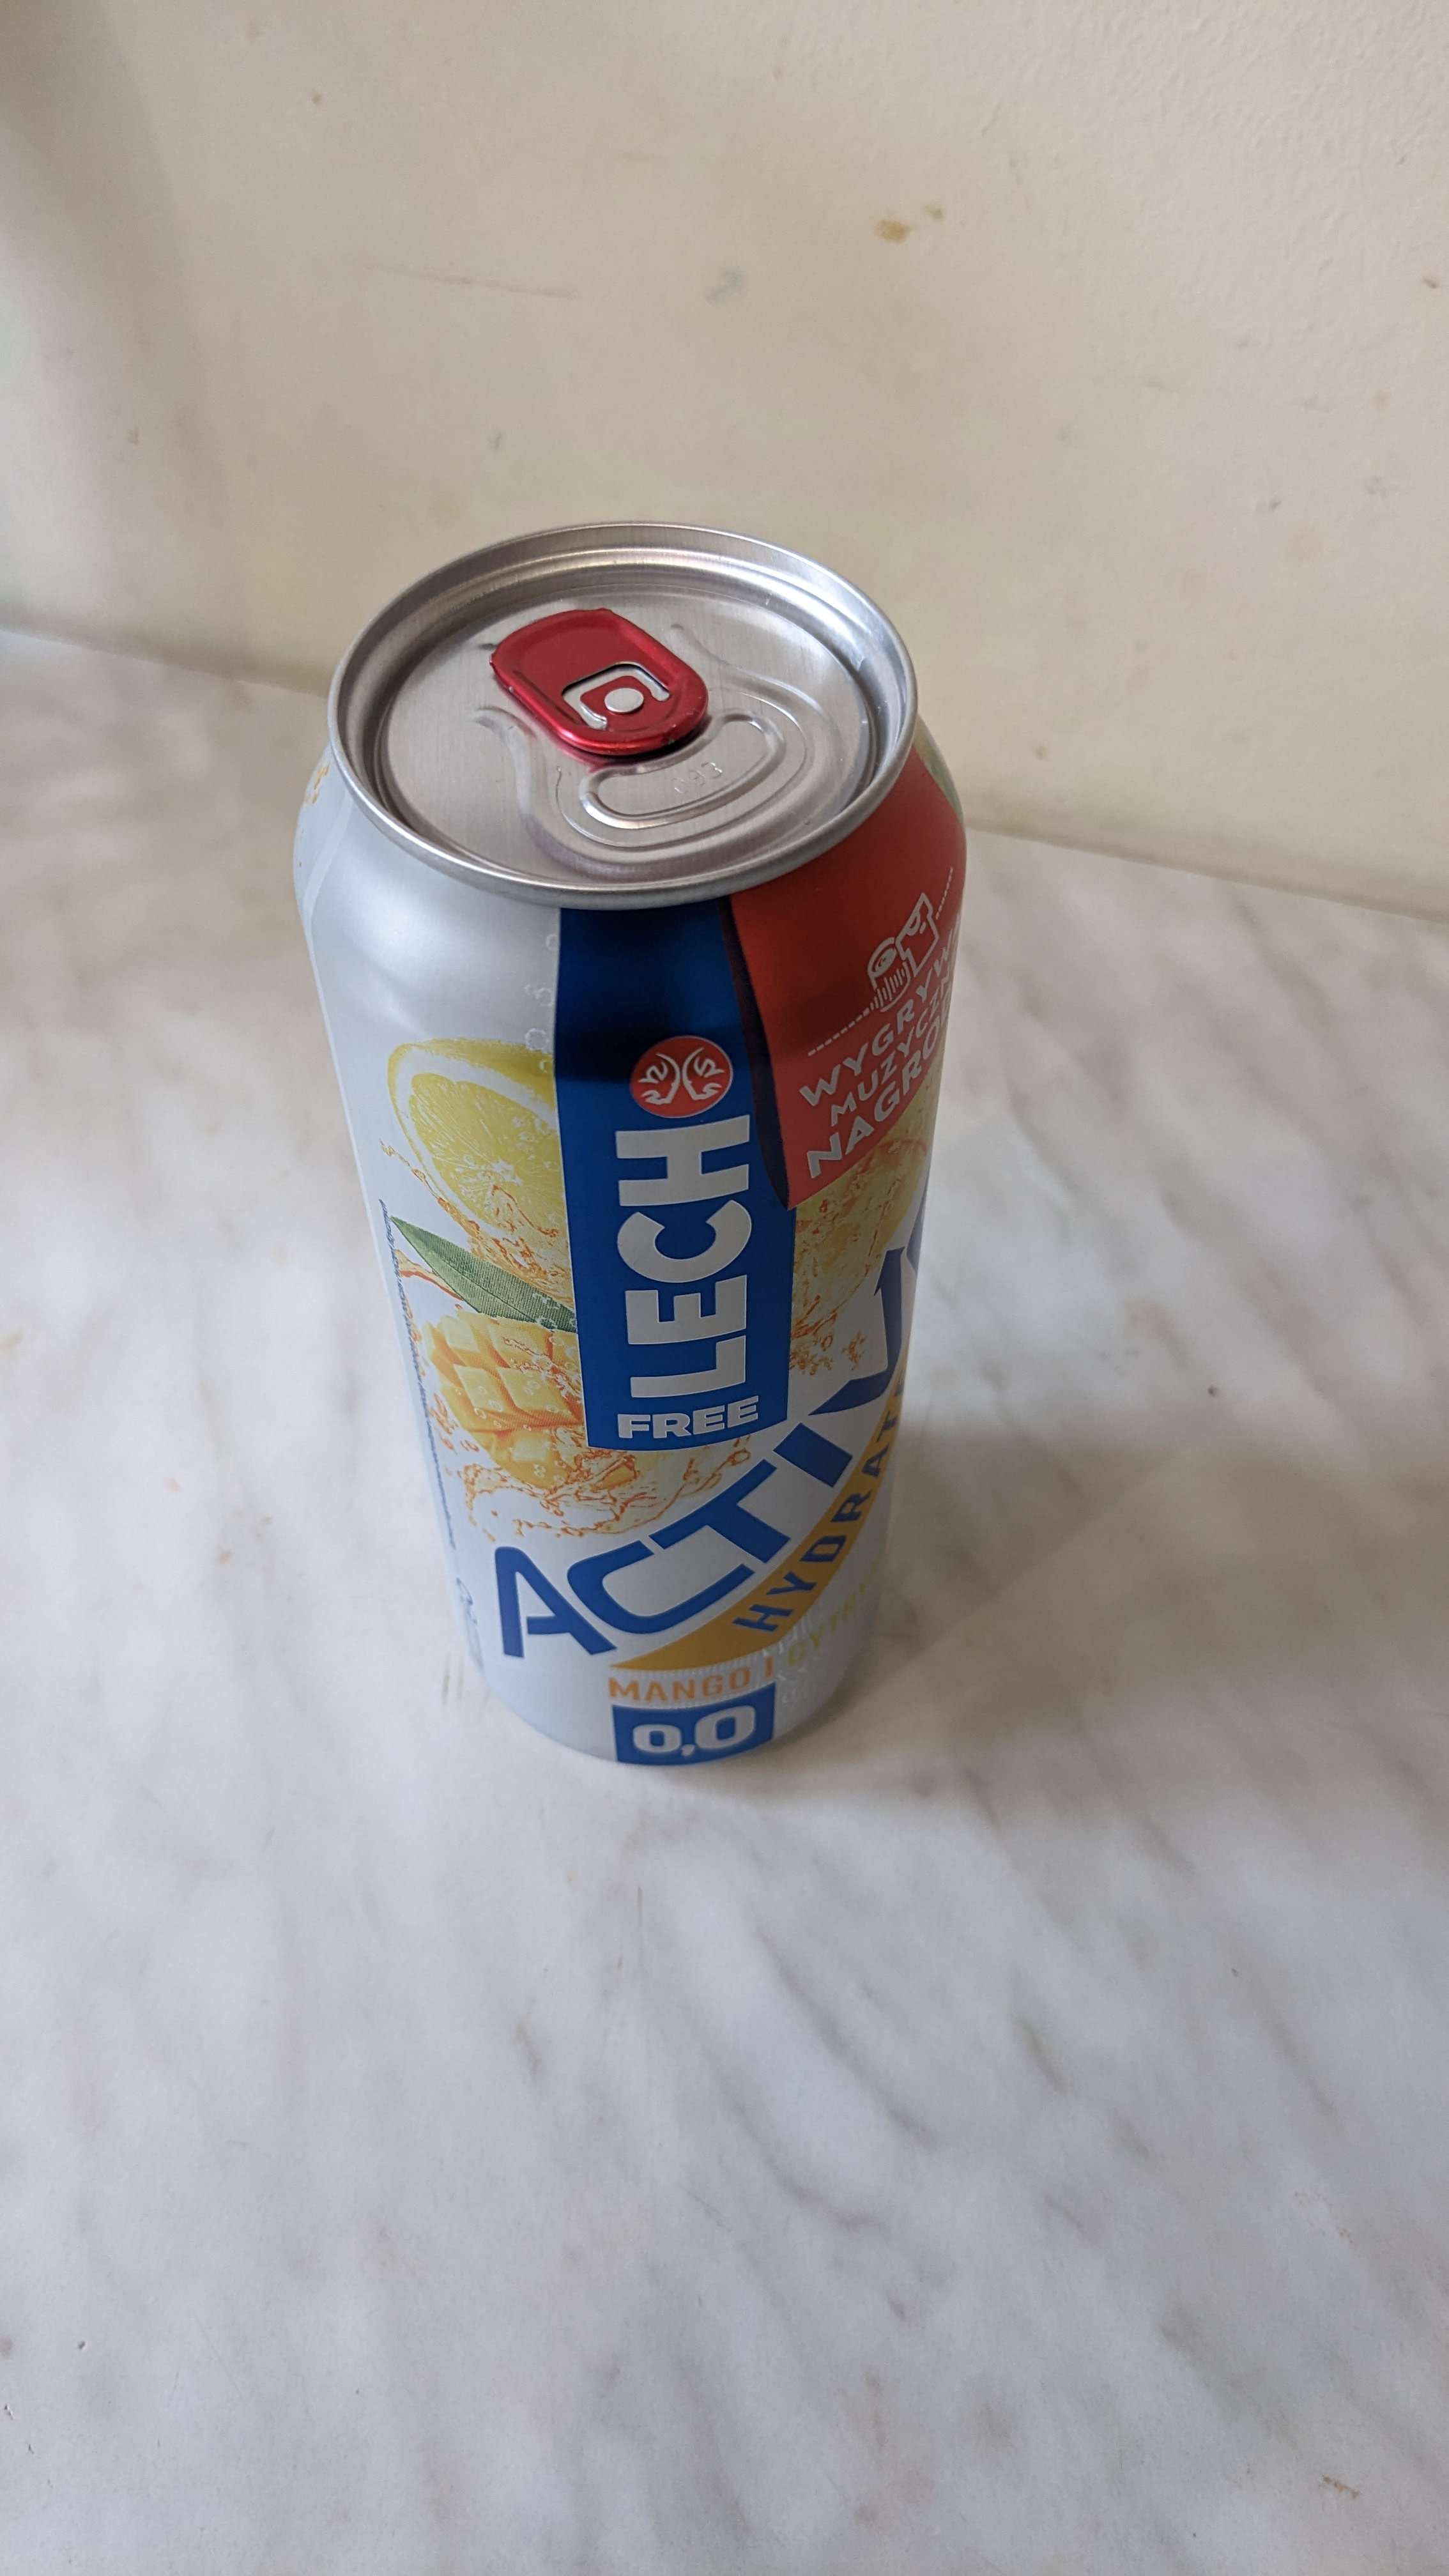lech-active: (285, 488, 1054, 1812)
